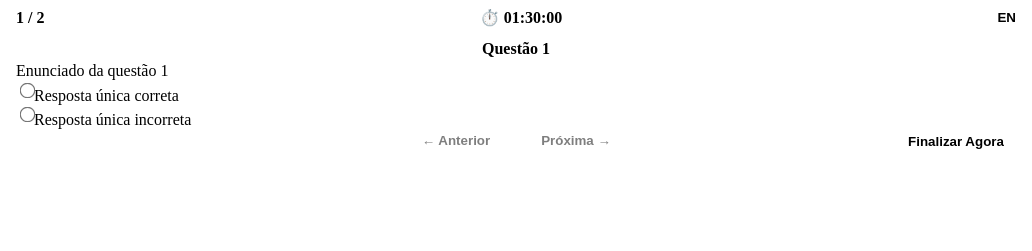
it: mantém a seleção única e o feedback imediato nas questões comuns
Expected: the number of radio buttons is 2, [20, 83, 35, 98]; [20, 107, 35, 122]
Click the text "Resposta única correta": (106, 95) [34, 87, 179, 104]
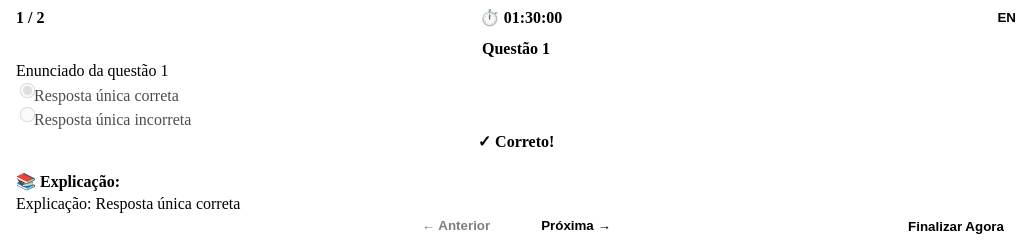
Expected: the radio button labelled "Resposta única correta" is checked, [20, 83, 35, 98]
Expected: the text "✓ Correto!" is shown, [478, 133, 554, 150]
